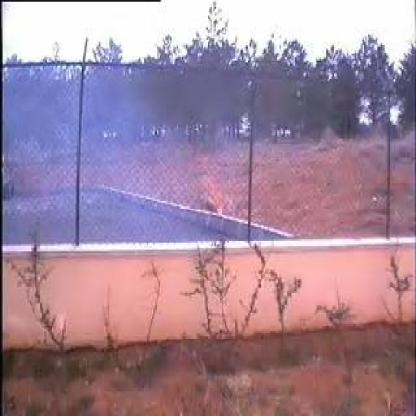-: (41, 99, 198, 237)
